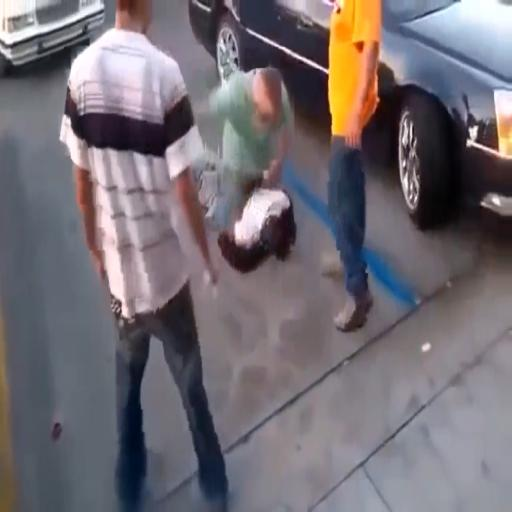violencia: (179, 32, 302, 280)
